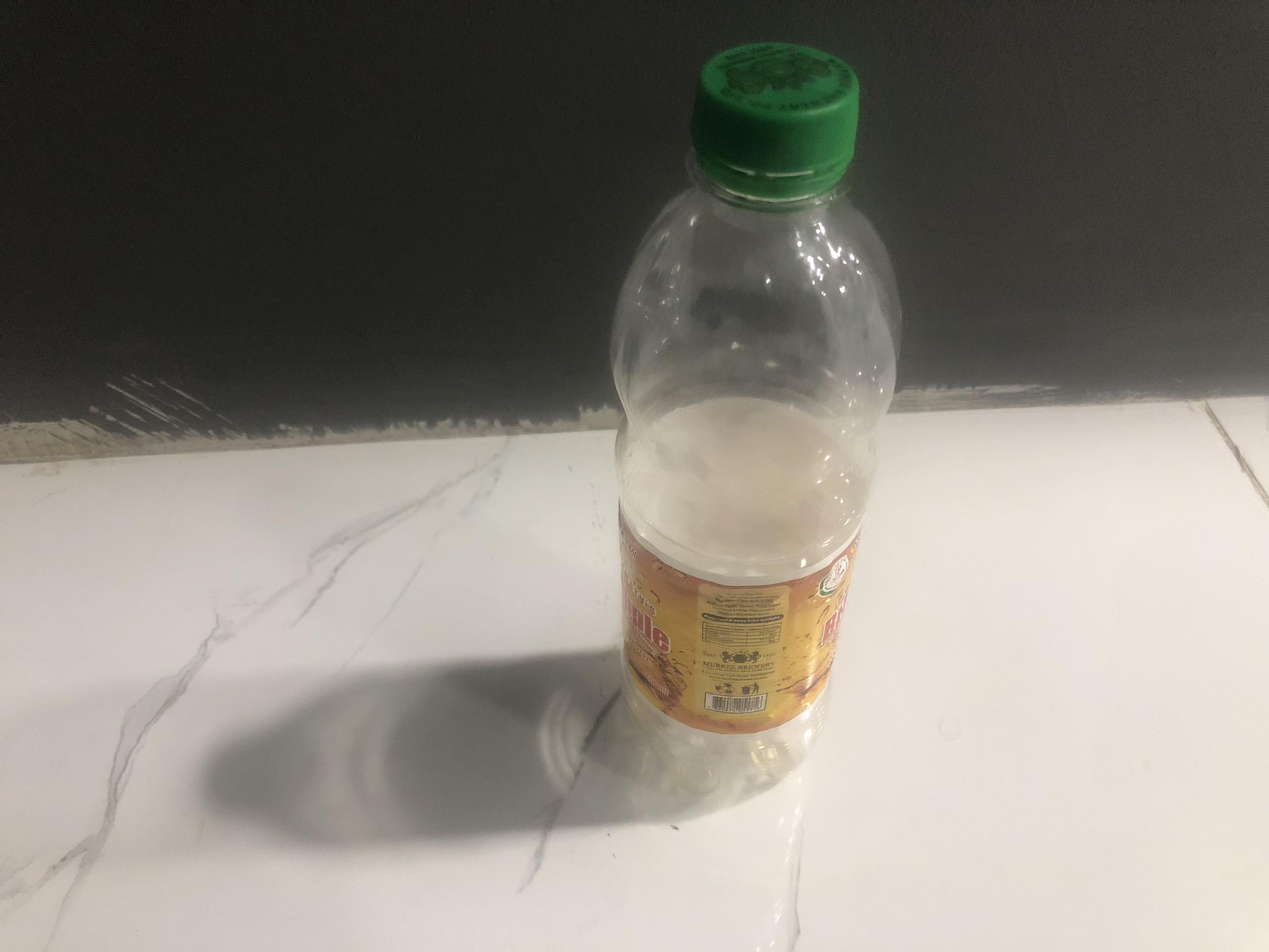bottle-plastic: (613, 41, 900, 801)
